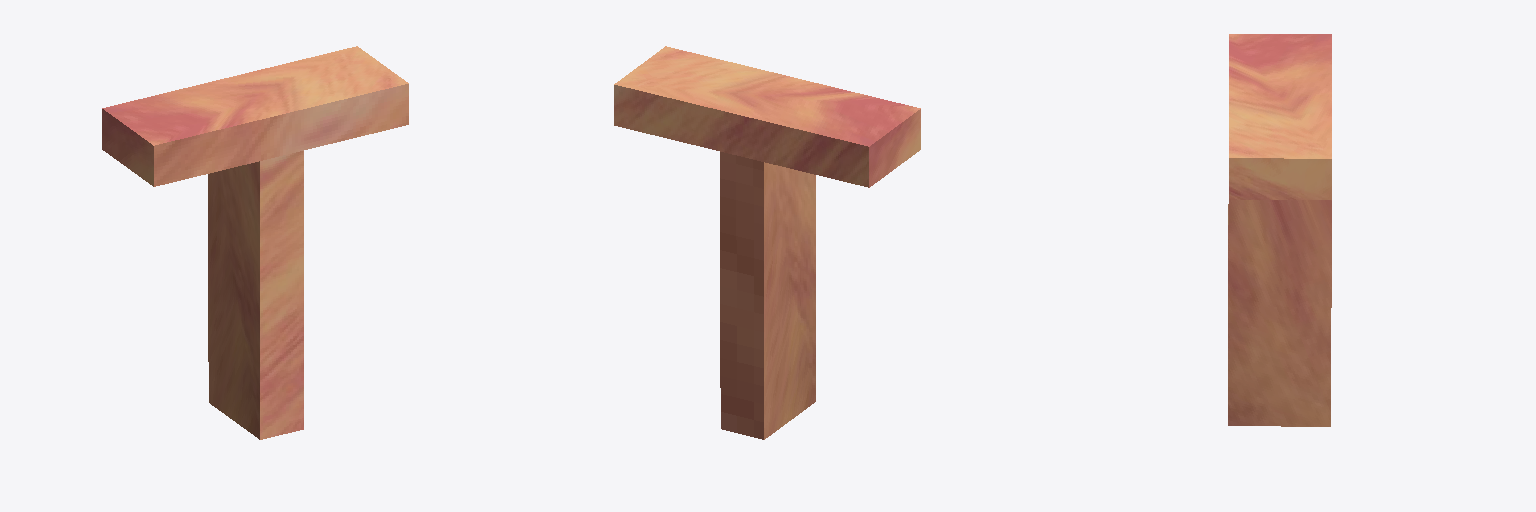
The picture shows the model from 3 angles: view 1: azimuth 30°, elevation 25°; view 2: azimuth 150°, elevation 25°; view 3: azimuth 270°, elevation 25°; orthographic projection.
Parts seen in each view (by area): view 1: 文本.003_Mesh.005; view 2: 文本.003_Mesh.005; view 3: 文本.003_Mesh.005.
Part boxes in pixels (left/top/right/bottom): 文本.003_Mesh.005: left=102, top=46, right=408, bottom=439; 文本.003_Mesh.005: left=614, top=46, right=920, bottom=439; 文本.003_Mesh.005: left=1228, top=34, right=1331, bottom=426.
Bounding box in the file's own units: 0.9463 × 1.13 × 0.3371.
1 materials, 1 textured.